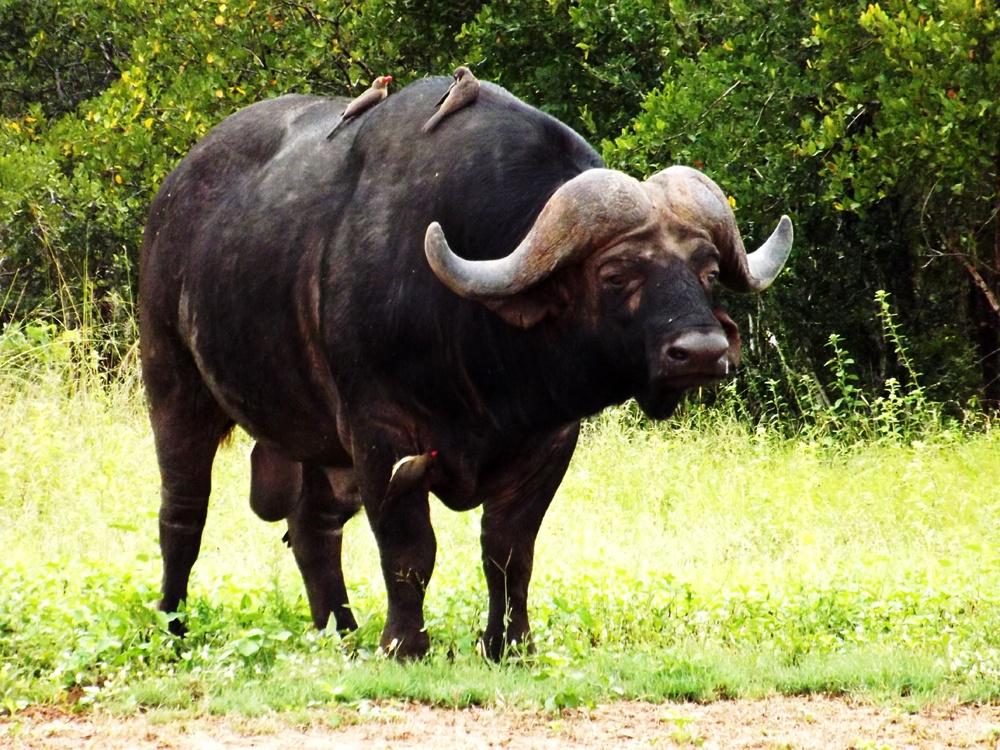buffalo: (131, 74, 796, 671)
